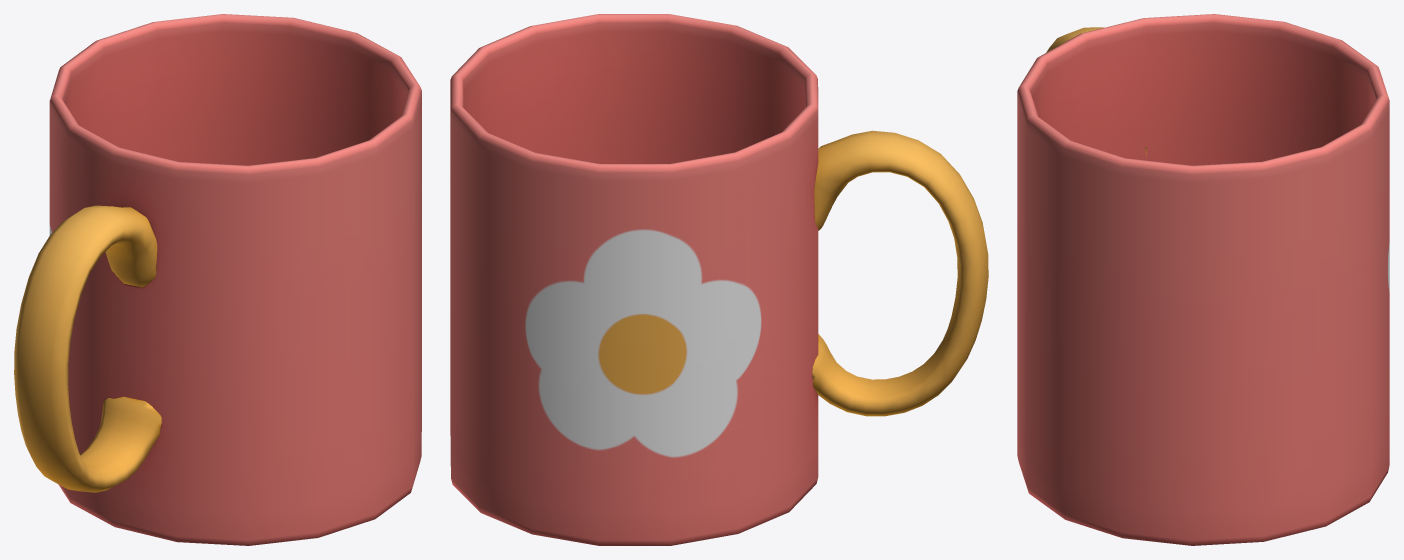
File: coc 1.fbx
The picture shows the model from 3 angles, left to right: view 1: azimuth 30°, elevation 25°; view 2: azimuth 150°, elevation 25°; view 3: azimuth 270°, elevation 25°; orthographic projection.
Visible parts, largest first — view 1: cup6; view 2: cup6; view 3: cup6.
Boxes of the visible parts, x1,y1,x2,y2 form: cup6: (14, 14, 421, 545); cup6: (450, 14, 988, 545); cup6: (1017, 14, 1389, 545).
Bounding box in the file's own units: 90.04 × 73.43 × 65.45.
Materials: 1 (1 with a texture image).
